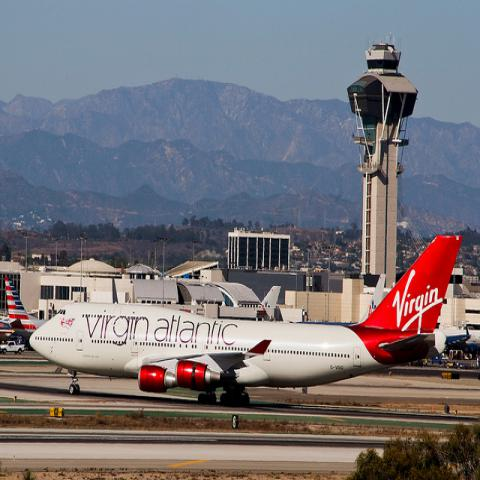truck: (0, 340, 25, 356)
